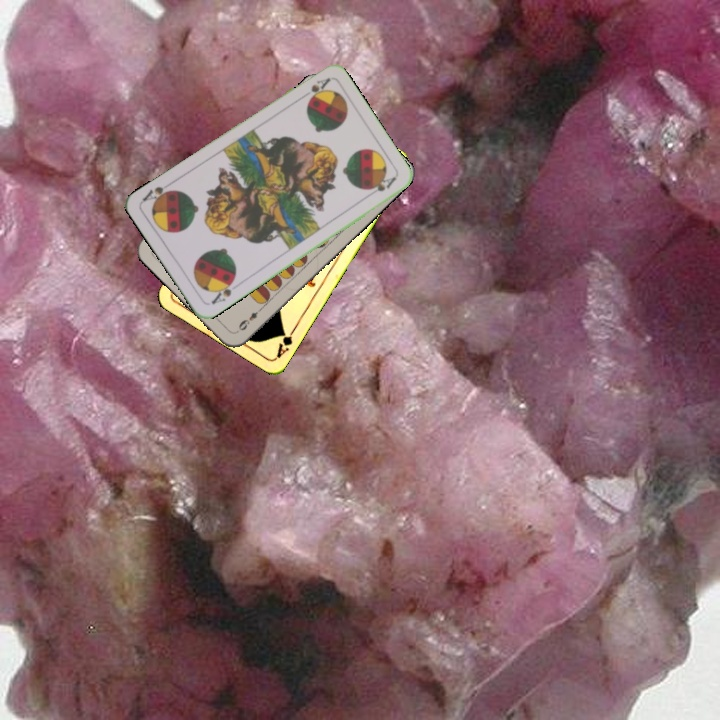E9: (234, 303, 265, 333)
GA: (272, 323, 298, 361)
SA: (296, 73, 333, 104), (207, 275, 238, 308)
